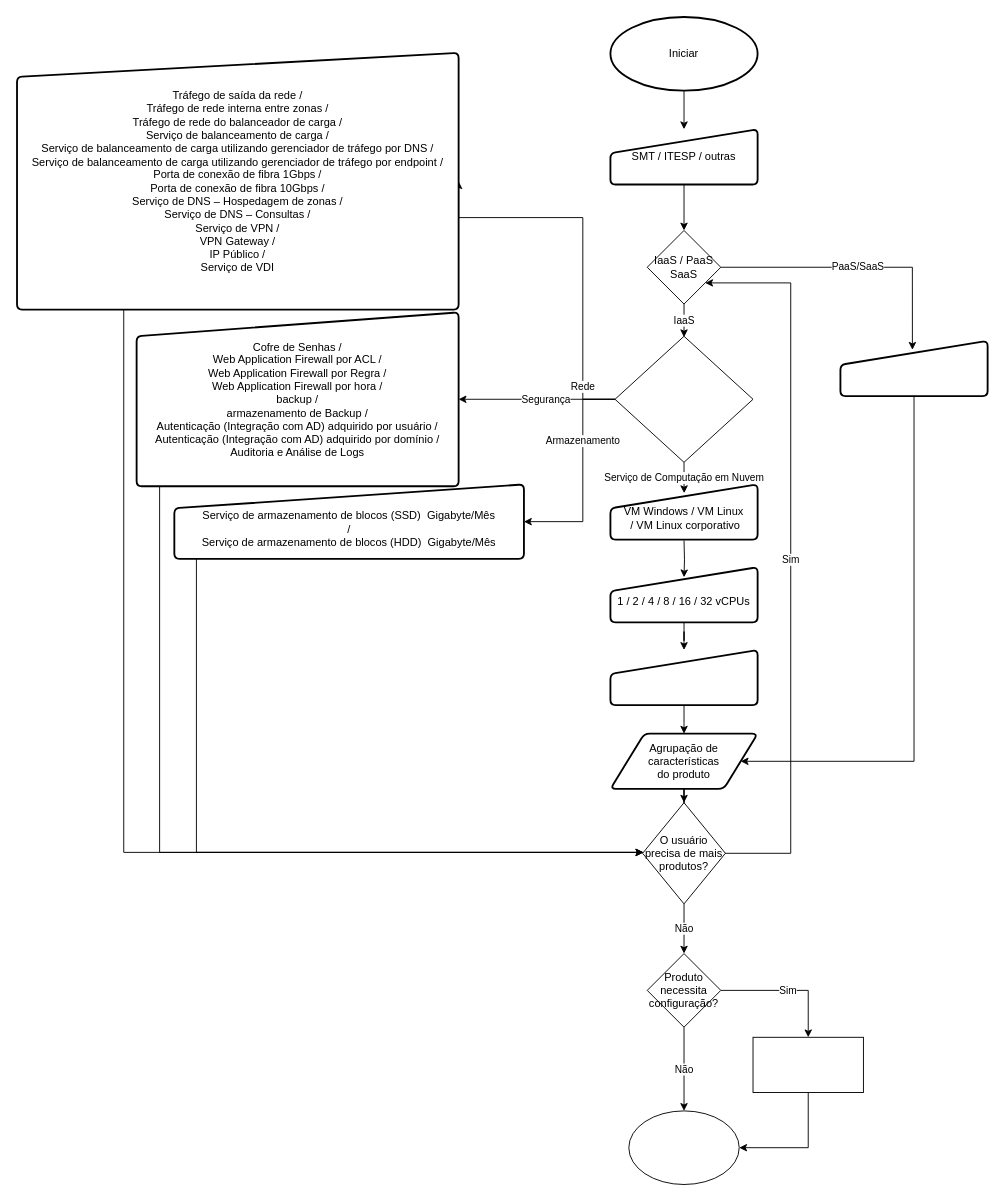
Some shapes in this 1004 by 1201 pixel diagram are drawn without their labels. The shapes that lost their labels are listed below. From the top down, each one's centre as x and y in pixels, then its label:
pixel 913 368: Software 1 / Software 2
pixel 683 398: Serviço de Computação em Nuvem Armazenamento Rede Segurança
pixel 683 677: 2 / 4 / 8 / 16 / 32 / 64 / 128 GB de RAM
pixel 807 1064: Criação de Ticket no GLPI
pixel 683 1147: Fim
